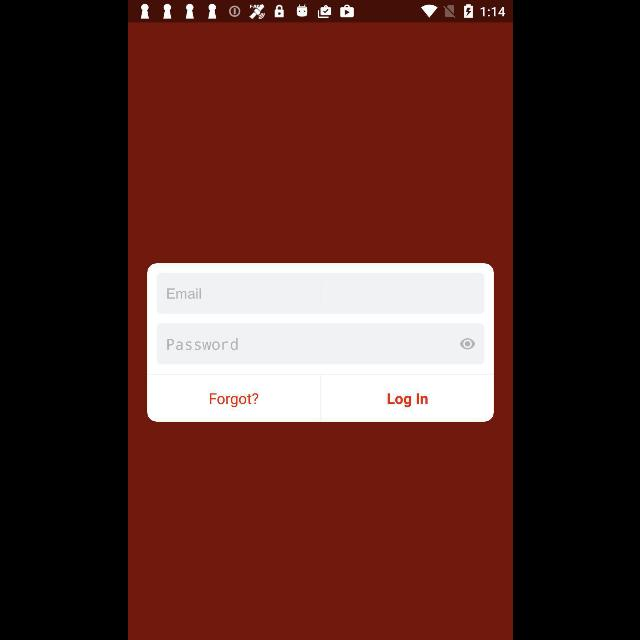icon: (460, 338, 474, 350)
input: (156, 272, 484, 314), (156, 324, 484, 364)
panel: (146, 264, 494, 422)
text: (167, 338, 237, 350), (167, 289, 200, 299)
textbutton: (146, 374, 320, 422), (321, 374, 494, 422)
uppertaskbar: (128, 1, 512, 23)
